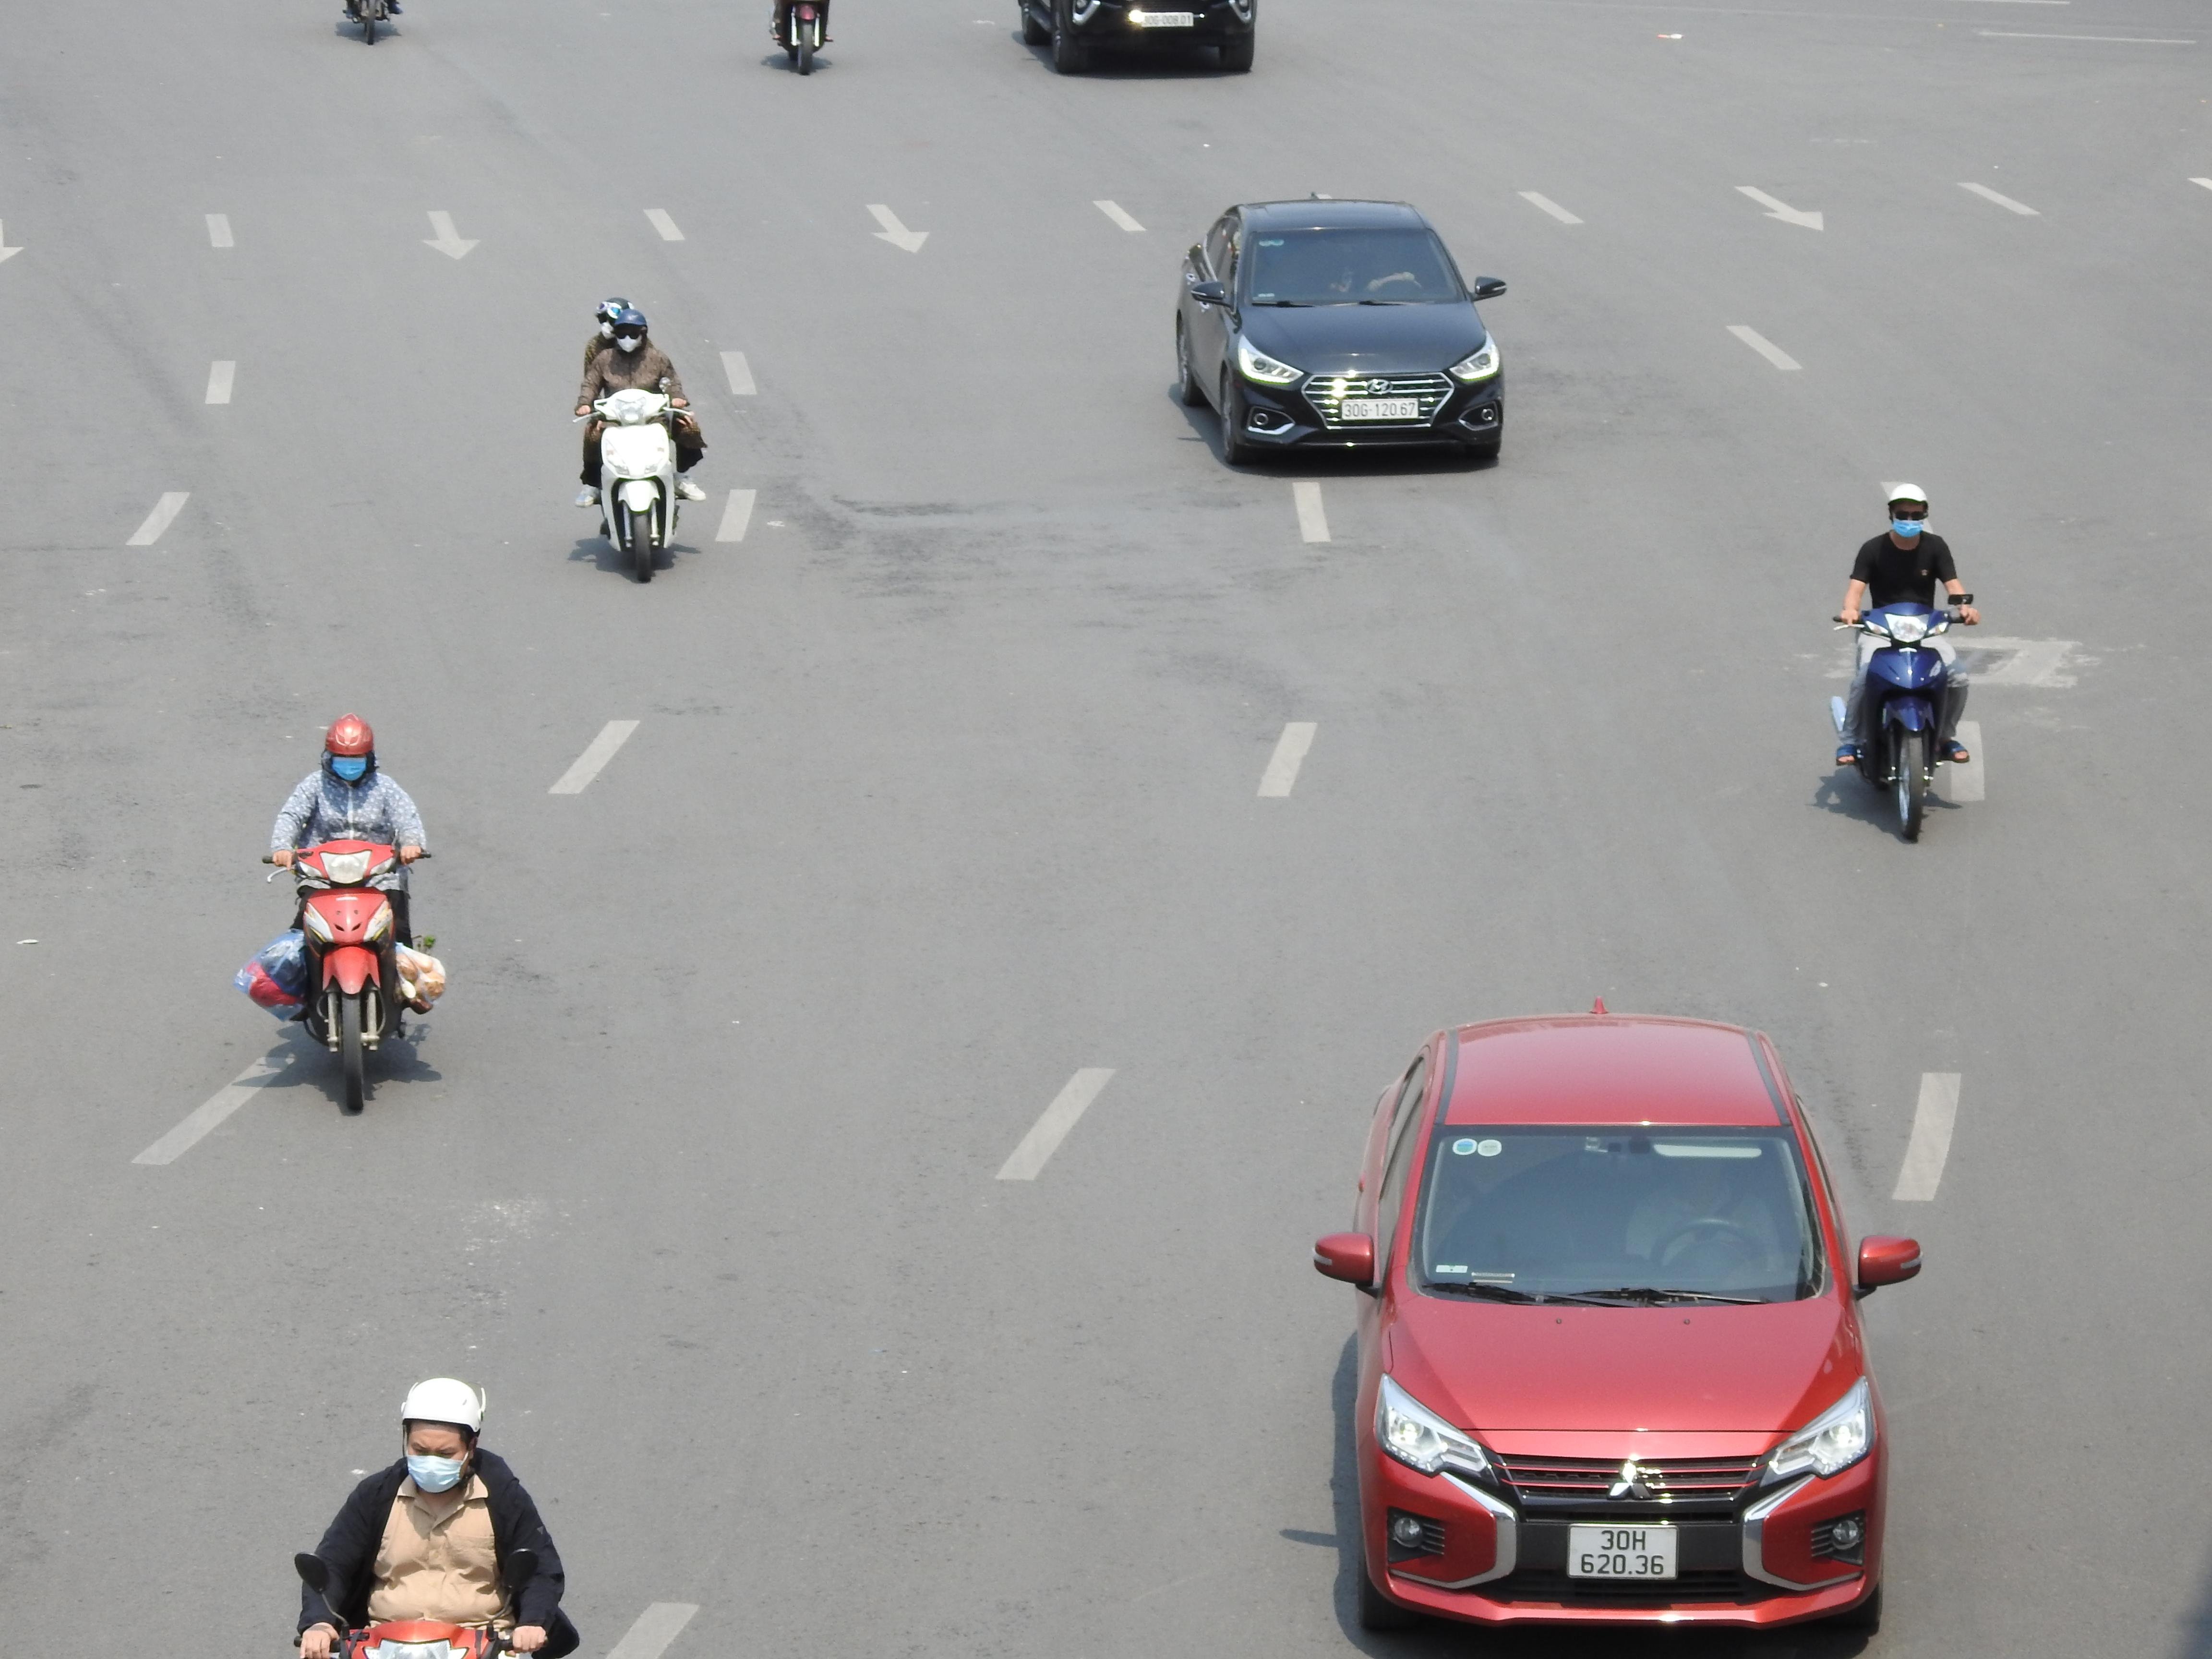BSD: (1341, 399, 1421, 420), (1141, 14, 1195, 28)
BSV: (1569, 1525, 1679, 1581)
car: (1312, 1009, 1923, 1640), (1169, 199, 1507, 469)
motorbike: (291, 1377, 578, 1659), (247, 713, 442, 1119), (1831, 481, 1977, 843), (577, 298, 702, 584), (766, 0, 836, 77)
